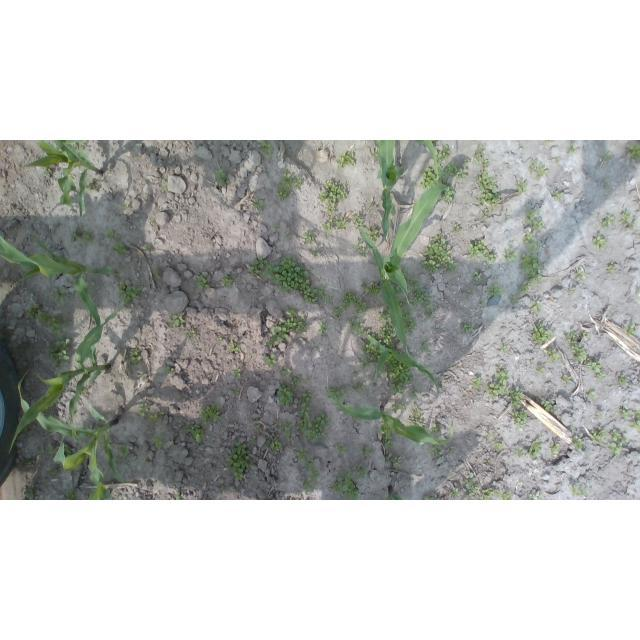Maize: (10, 300, 129, 455), (357, 180, 444, 361), (17, 369, 124, 500), (1, 233, 122, 327), (326, 377, 455, 446), (22, 140, 102, 218), (367, 334, 440, 398), (373, 141, 403, 248), (416, 140, 439, 174), (386, 485, 406, 500)
Weeds: (263, 257, 325, 305), (264, 306, 308, 349), (419, 231, 458, 274), (297, 391, 330, 441), (383, 356, 416, 396), (296, 448, 320, 493), (227, 442, 252, 483), (476, 171, 500, 212), (563, 328, 591, 363), (38, 309, 70, 339), (520, 252, 544, 292), (320, 180, 348, 214), (329, 470, 360, 500), (377, 307, 396, 350), (487, 365, 510, 399), (409, 275, 432, 307), (468, 240, 496, 265), (439, 159, 471, 180), (277, 173, 302, 199), (46, 339, 70, 365), (117, 281, 144, 304), (619, 406, 640, 434), (341, 292, 368, 313), (185, 420, 208, 444), (609, 427, 628, 455), (528, 158, 551, 181), (199, 404, 222, 425), (70, 227, 95, 246), (531, 324, 553, 344), (361, 342, 383, 362), (321, 216, 348, 232), (464, 472, 479, 500), (473, 143, 488, 171), (508, 387, 527, 409), (419, 169, 438, 190), (249, 255, 267, 277), (277, 385, 295, 407), (586, 360, 604, 381), (523, 230, 540, 252), (336, 151, 356, 169), (407, 405, 423, 427), (402, 310, 417, 333), (352, 319, 371, 337), (512, 408, 529, 428), (526, 209, 543, 229), (436, 144, 450, 168), (274, 420, 292, 438), (329, 387, 352, 401), (442, 180, 456, 203), (592, 233, 608, 253), (528, 440, 543, 461), (591, 427, 608, 445), (620, 211, 637, 229), (109, 242, 130, 256), (624, 142, 640, 160), (215, 169, 230, 188), (361, 281, 379, 296), (167, 313, 185, 328), (541, 399, 558, 414), (27, 303, 40, 322), (571, 435, 586, 450), (504, 247, 519, 262), (354, 241, 370, 255), (196, 273, 210, 289), (130, 348, 143, 365), (569, 483, 587, 495), (602, 215, 616, 230), (54, 289, 68, 304), (428, 443, 443, 457), (495, 489, 514, 500), (260, 140, 272, 157), (266, 439, 283, 451), (263, 355, 277, 369), (549, 443, 562, 458), (221, 273, 234, 288), (360, 445, 376, 457), (546, 348, 560, 361), (290, 373, 303, 387), (488, 284, 503, 296), (64, 489, 80, 500), (303, 230, 316, 243), (118, 444, 131, 457), (479, 488, 493, 500), (606, 261, 618, 275), (391, 283, 405, 295), (105, 228, 119, 240), (353, 213, 364, 228), (420, 340, 432, 353), (624, 324, 637, 336), (491, 440, 504, 452), (366, 229, 378, 242), (152, 436, 165, 448), (86, 178, 99, 190), (357, 463, 368, 477), (429, 423, 440, 437), (517, 180, 528, 194), (48, 466, 62, 477), (448, 488, 462, 499), (560, 373, 572, 385), (252, 198, 264, 210), (228, 342, 240, 354), (536, 364, 549, 375), (184, 330, 198, 340), (460, 324, 475, 333), (102, 488, 113, 500), (471, 376, 482, 388), (382, 437, 394, 448), (336, 443, 349, 453), (43, 164, 53, 177), (515, 446, 526, 457), (552, 190, 564, 200), (231, 367, 241, 379), (120, 199, 132, 209), (28, 485, 36, 500), (528, 491, 541, 500), (360, 360, 373, 369), (391, 404, 405, 412), (569, 140, 577, 154), (384, 451, 392, 465), (138, 405, 148, 416), (394, 457, 404, 468), (354, 383, 365, 393), (399, 299, 410, 309), (150, 413, 161, 423), (576, 268, 585, 280), (64, 444, 73, 456), (47, 443, 55, 456), (617, 375, 627, 385), (323, 293, 333, 303), (499, 343, 509, 353), (425, 308, 434, 319), (411, 389, 422, 398), (531, 303, 542, 312), (425, 493, 438, 500), (586, 390, 596, 399), (400, 267, 409, 277), (603, 152, 613, 161), (282, 367, 291, 377), (318, 324, 326, 335), (473, 272, 482, 281), (272, 220, 281, 229), (332, 307, 341, 316), (75, 143, 83, 152), (163, 180, 169, 192), (143, 244, 152, 252), (232, 388, 241, 396), (480, 211, 488, 219), (252, 421, 260, 429), (595, 413, 604, 420), (371, 152, 378, 161), (175, 492, 184, 499), (568, 287, 576, 294), (512, 296, 519, 304), (217, 486, 225, 493), (312, 342, 320, 349), (454, 225, 461, 232), (480, 301, 487, 308), (81, 388, 88, 395), (352, 371, 360, 377), (155, 267, 161, 275), (369, 203, 377, 209), (165, 366, 173, 372), (251, 436, 257, 444), (40, 408, 49, 413), (485, 459, 492, 465), (217, 337, 224, 343), (73, 179, 79, 186), (488, 431, 493, 439), (284, 236, 292, 241), (136, 371, 144, 376), (142, 460, 150, 465), (544, 141, 557, 144), (467, 290, 473, 296), (604, 180, 608, 188), (311, 248, 317, 253), (39, 452, 45, 457), (296, 497, 305, 500), (151, 216, 156, 221), (555, 157, 560, 162), (249, 353, 255, 357), (442, 380, 447, 384), (571, 424, 575, 428), (132, 456, 136, 460), (381, 423, 384, 425)
